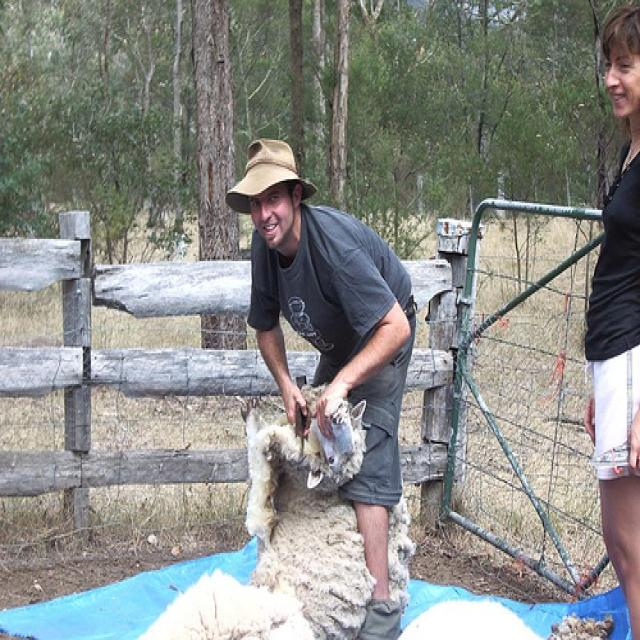person: (224, 138, 417, 640), (583, 5, 640, 640)
sheep: (244, 385, 412, 639)
